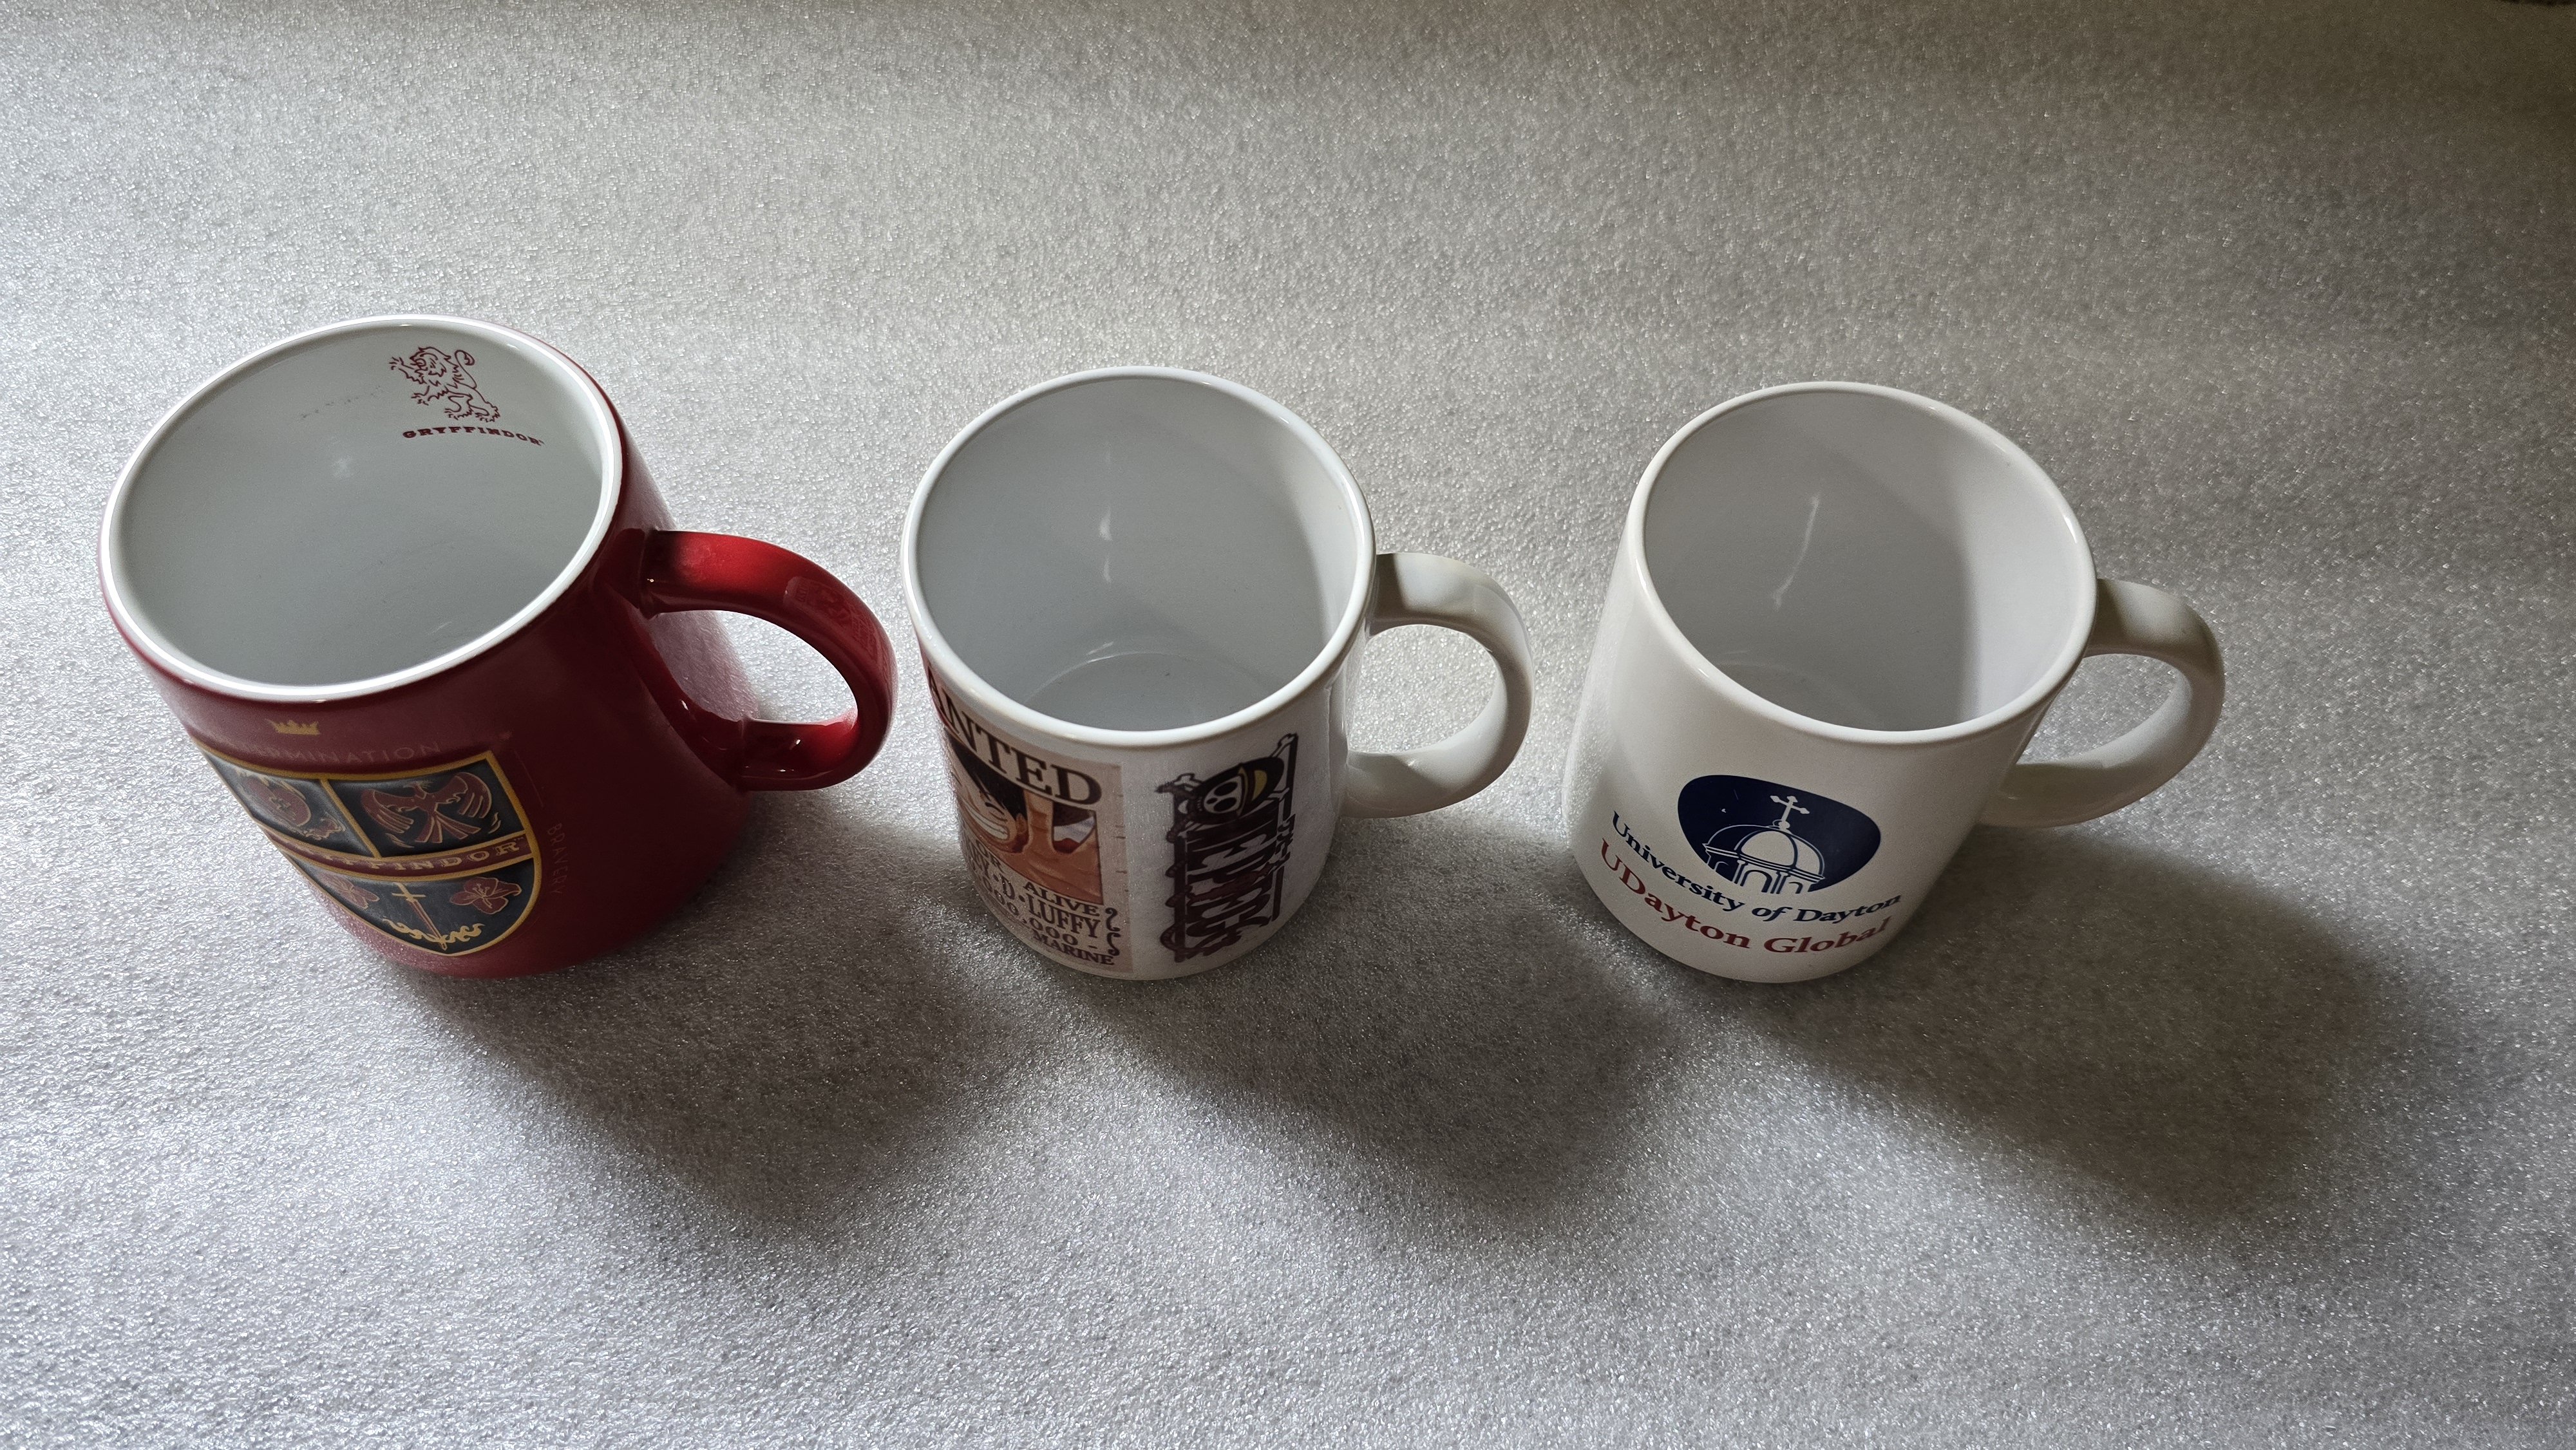mug: (80, 294, 911, 1024), (1569, 350, 2261, 1015), (893, 354, 1566, 1010)
